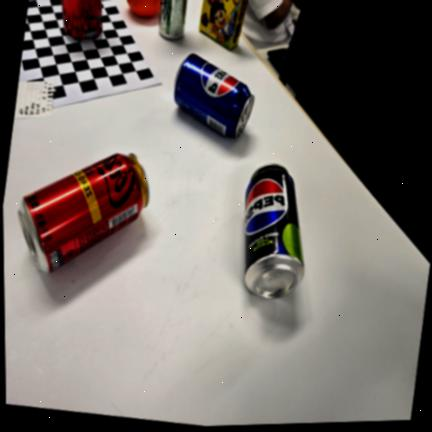can_coke_decaf: (16, 152, 151, 274)
can_pepsi: (172, 53, 254, 139)
can_pepsi_zero: (244, 163, 304, 300)
